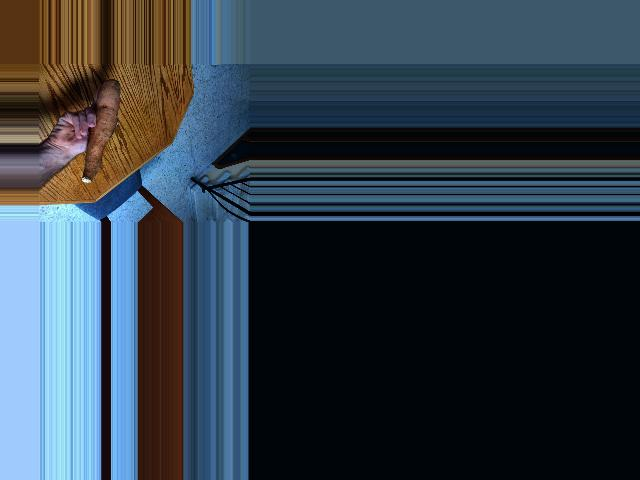sweet_potato: (77, 82, 123, 184)
